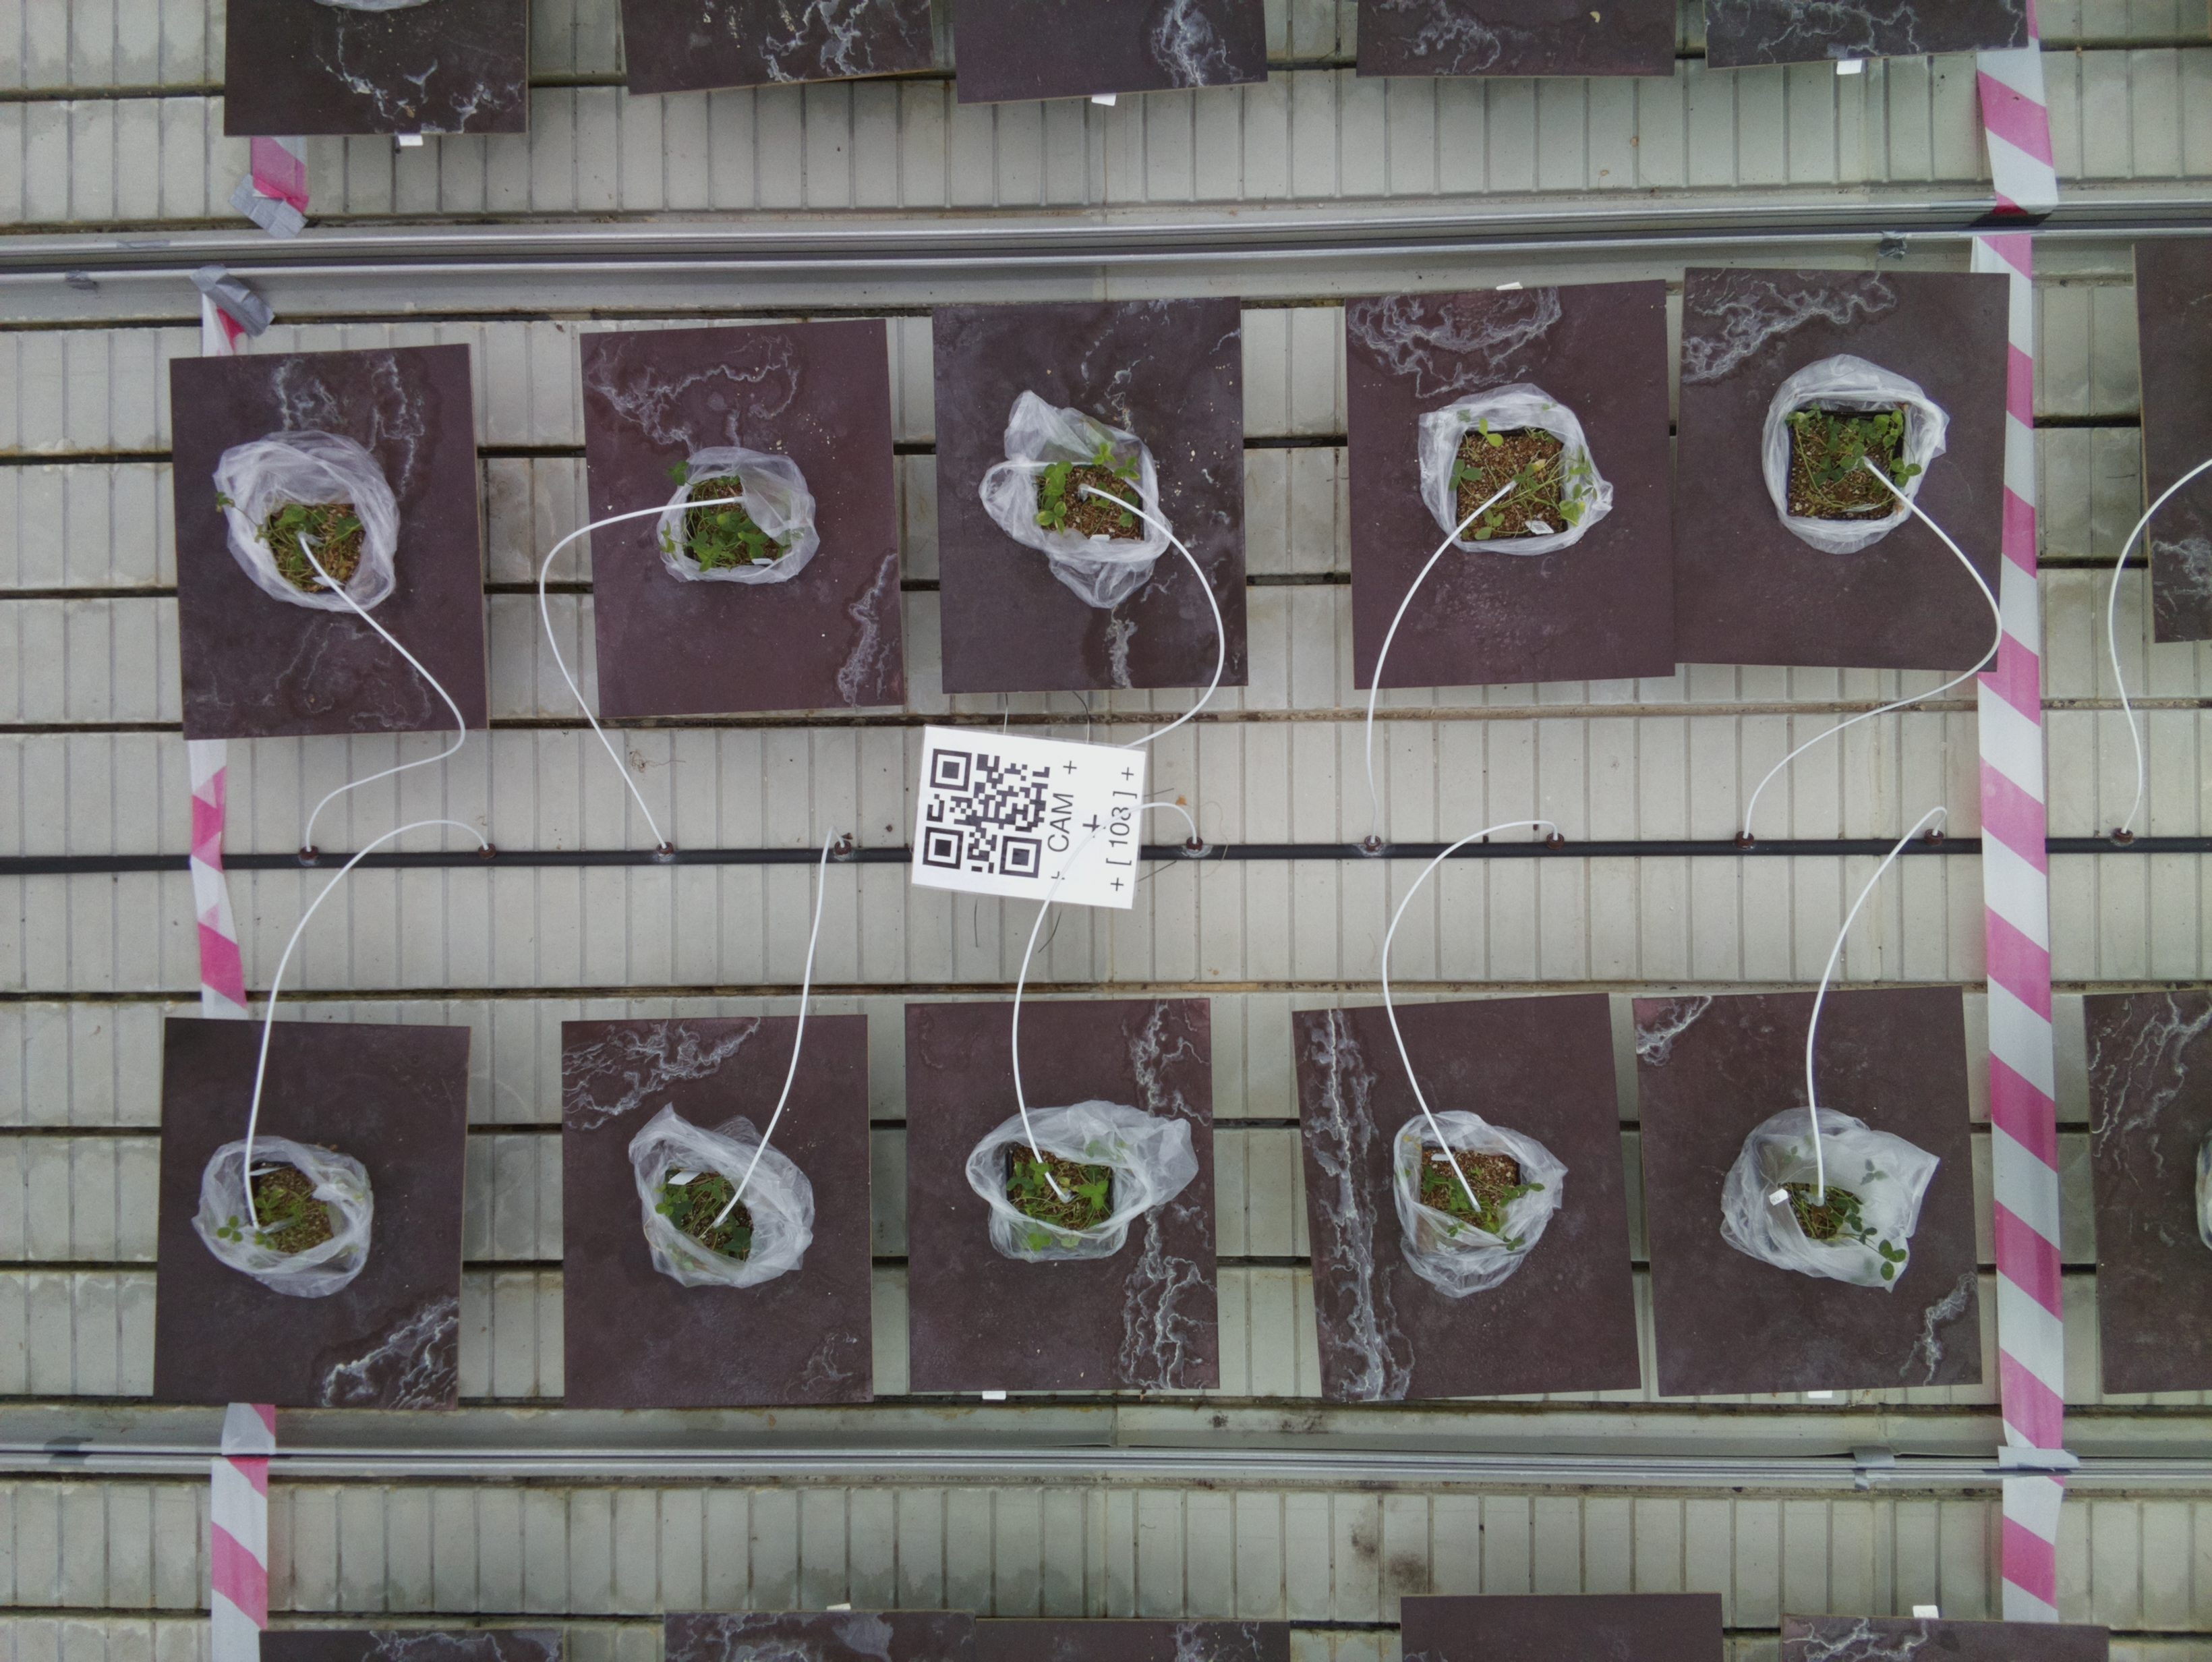POT: (1627, 992, 1985, 1398), (1343, 288, 1676, 688), (1673, 267, 2002, 670), (931, 299, 1254, 697), (557, 1013, 876, 1412), (576, 318, 899, 711), (1294, 1004, 1620, 1390), (173, 342, 487, 738), (157, 1016, 475, 1407), (904, 1004, 1226, 1388)
QRCODE: (908, 723, 1149, 917)
